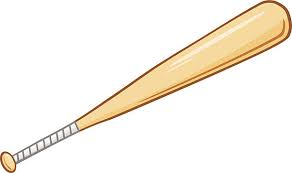baseball bat: (1, 1, 292, 173)
